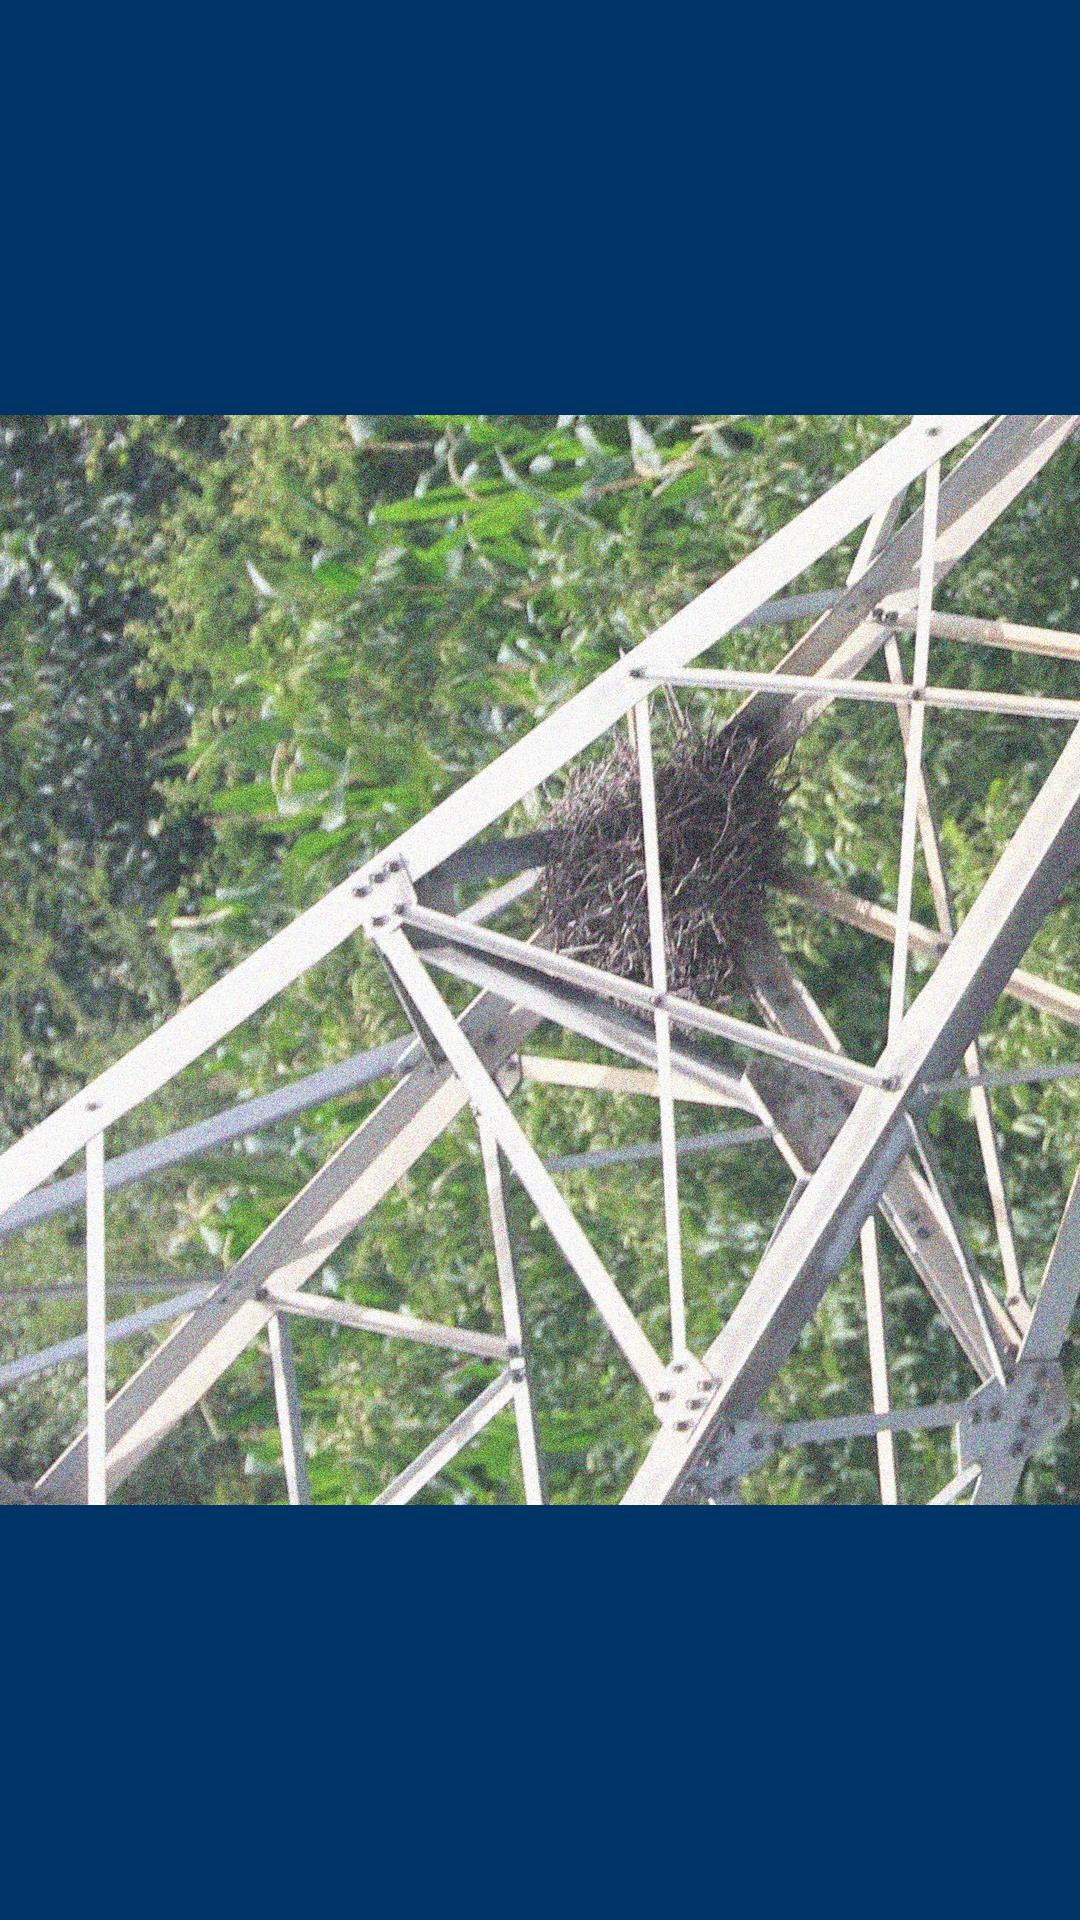niaowo: (496, 687, 864, 1021)
